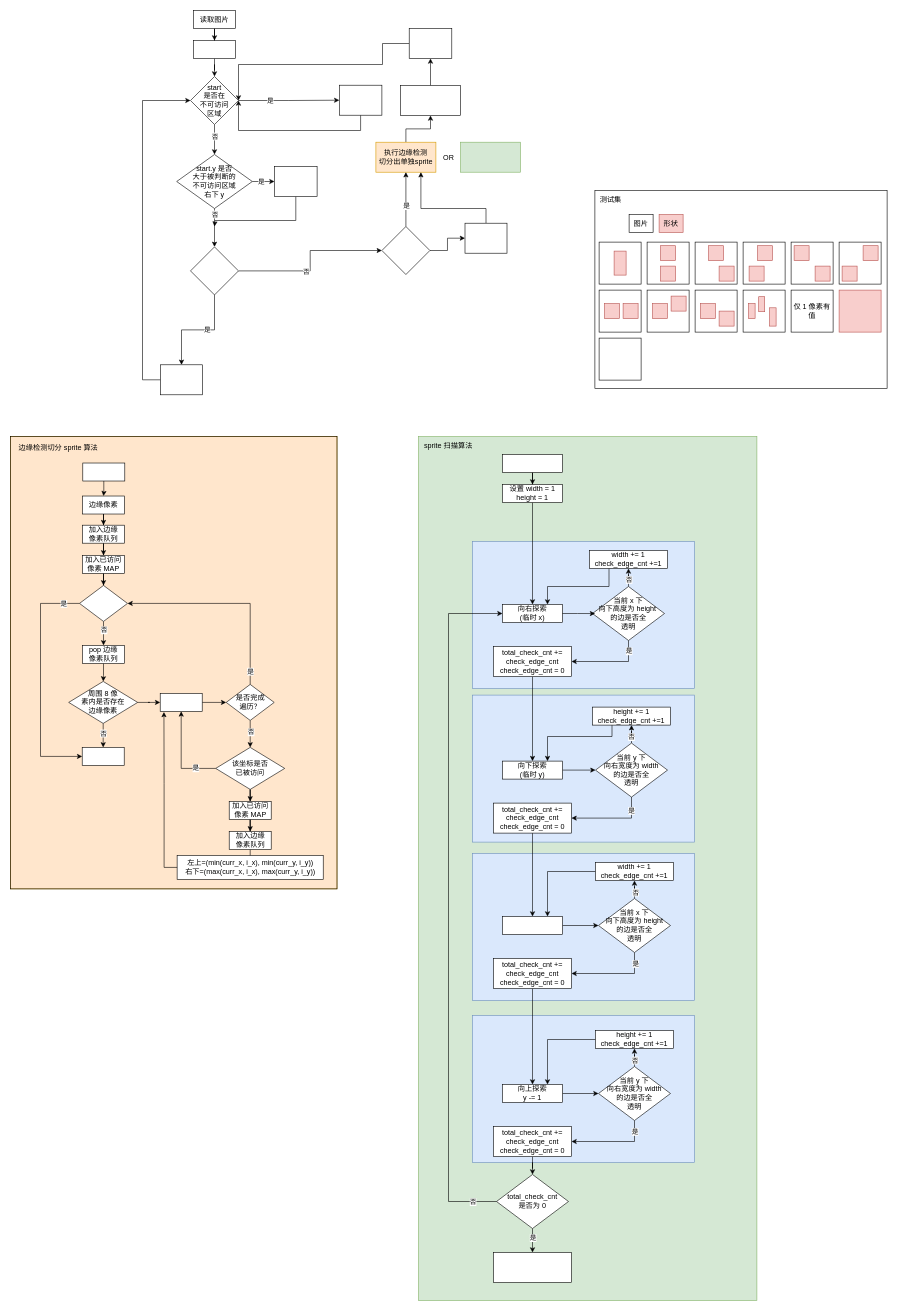
Some shapes in this 898 by 1311 pixel diagram are drawn without their labels. The shapes that lost their labels are listed below. From the top down, each one's box as (x1, y1, x2, y2) in pixels, then its label:
(193, 40, 236, 58): 设置 start 为 (0, 0)
(409, 28, 452, 58): 更新 start 跳过 该 区域
(339, 85, 382, 115): 更新 start 跳过不可 访问 区域
(400, 85, 460, 116): 将该区域添加为 不可访问区域
(460, 142, 520, 172): 执行 sprite 扫描切分出单独 sprite
(274, 166, 317, 196): 删除该不可访问区域
(381, 226, 430, 274): start 是否为 边缘像素
(464, 223, 507, 253): 任意方向 更新 start 找到边缘像素
(190, 246, 238, 295): start 是否为 透明像素
(160, 364, 202, 395): 更新 start 先增加 x 后增加 y
(82, 462, 125, 481): 初始化左上右下返回值
(502, 454, 562, 472): 非透明像素点起点
(79, 585, 128, 621): 边缘 像 素 队列是否 为空
(160, 693, 202, 711): 遍历 边缘 像素
(82, 747, 124, 765): 返回左上右下坐标
(502, 916, 562, 934): 向左探索 x -= 1
(493, 1252, 572, 1282): x，y 此时是左上坐标 可根据 width，height 计算右下坐标
